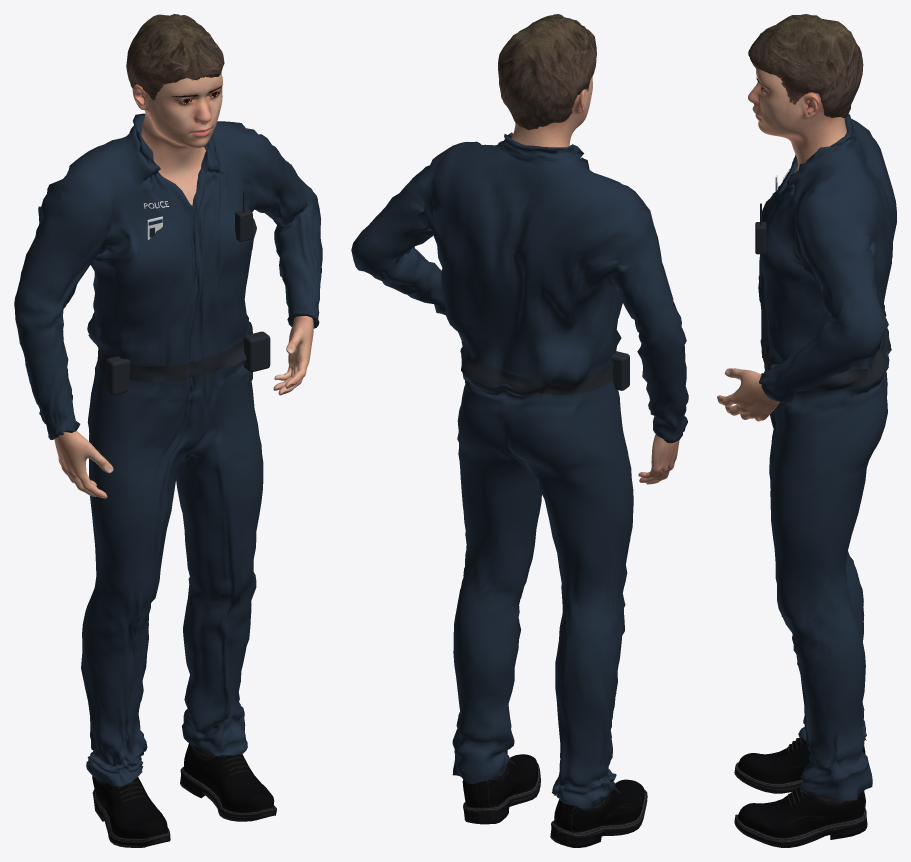
The model's file is police-officer.glb.
3 views of the same model, side by side, from view 1: azimuth 30°, elevation 25°; view 2: azimuth 150°, elevation 25°; view 3: azimuth 270°, elevation 25° (orthographic).
Parts seen in each view (by area): view 1: male_casualsuit01, Drew | anatomical body, shoes03, short02, Uniform fitted band, Duty belt pouch.001, Duty belt pouch; view 2: male_casualsuit01, short02, shoes03, Drew | anatomical body, Uniform fitted band, Duty belt pouch; view 3: male_casualsuit01, shoes03, short02, Drew | anatomical body, Uniform fitted band, Shoulder radio.
Boxes of the visible parts, x1,y1,x2,y2 form: male_casualsuit01: (14,113,322,786); Drew | anatomical body: (54,73,313,498); shoes03: (92,725,276,847); short02: (126,14,224,100); Uniform fitted band: (88,322,252,382); Duty belt pouch.001: (243,331,270,372); Duty belt pouch: (106,356,130,395); male_casualsuit01: (351,132,688,808); short02: (498,14,596,130); shoes03: (462,744,647,847); Drew | anatomical body: (511,75,679,484); Uniform fitted band: (460,341,613,395); Duty belt pouch: (611,351,629,390); male_casualsuit01: (758,114,896,800); shoes03: (734,737,867,847); short02: (748,14,863,117); Drew | anatomical body: (717,68,846,421); Uniform fitted band: (760,328,891,390); Shoulder radio: (755,222,766,254).
Size of the model in its own units: 0.7426 by 1.81 by 0.3739.
Materials: 13 (13 with a texture image).
